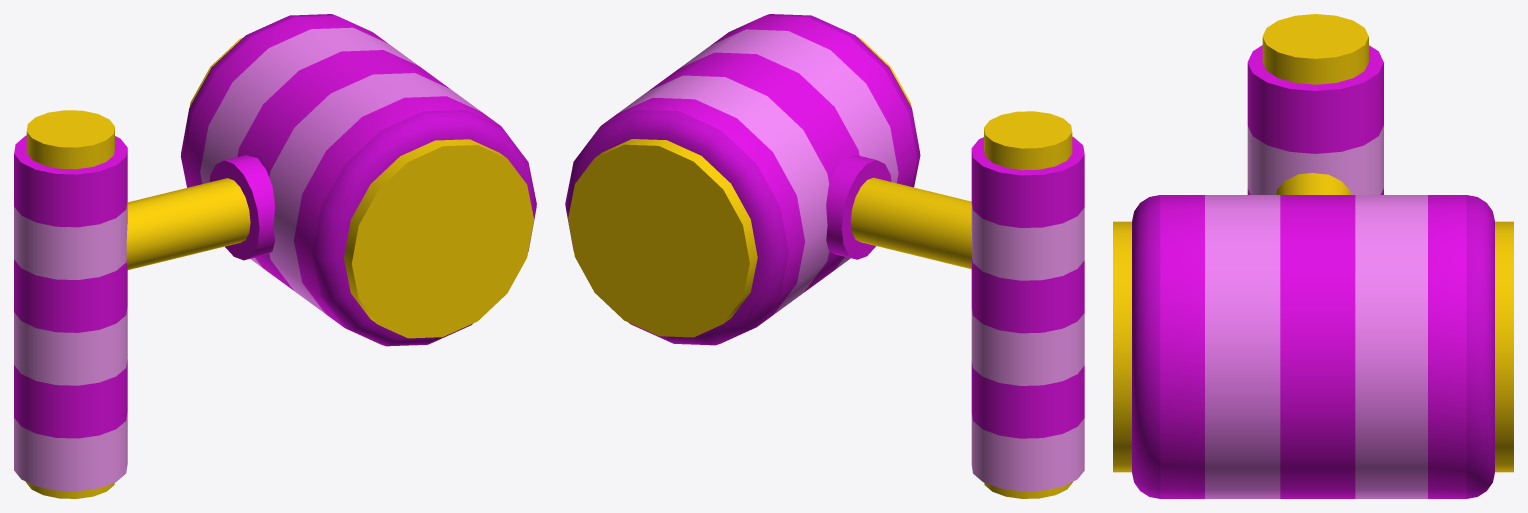
The model's file is Hammer.fbx.
The picture shows the model from 3 angles, left to right: view 1: azimuth 30°, elevation 25°; view 2: azimuth 150°, elevation 25°; view 3: azimuth 270°, elevation 25°; orthographic projection. The views are drawn at different scales.
Visible parts, largest first — view 1: Hammer1__4_; view 2: Hammer1__4_; view 3: Hammer1__4_.
Boxes of the visible parts, bbox=[...] form: Hammer1__4_: bbox=[14, 14, 536, 498]; Hammer1__4_: bbox=[565, 14, 1084, 498]; Hammer1__4_: bbox=[1113, 14, 1513, 498].
Size of the model in its own units: 205 by 154 by 133.
